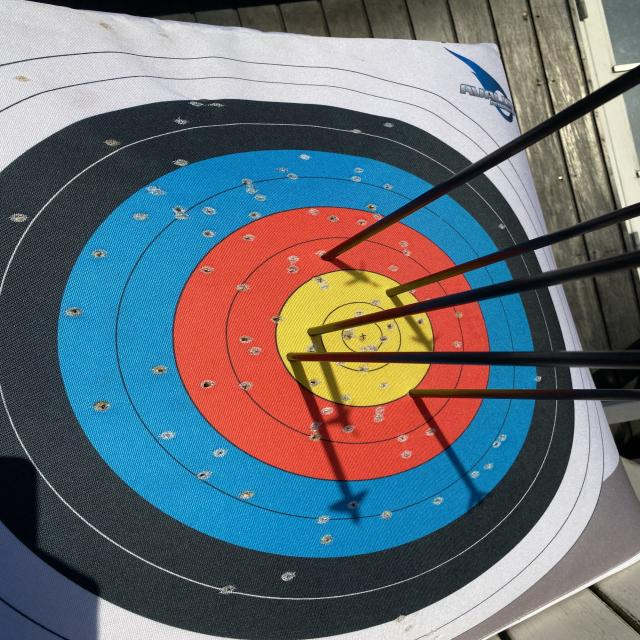Arrow_Red: (312, 242, 351, 276), (395, 376, 426, 405)
Arrow_Yellow: (266, 335, 318, 384), (293, 316, 335, 348), (381, 273, 405, 305)
